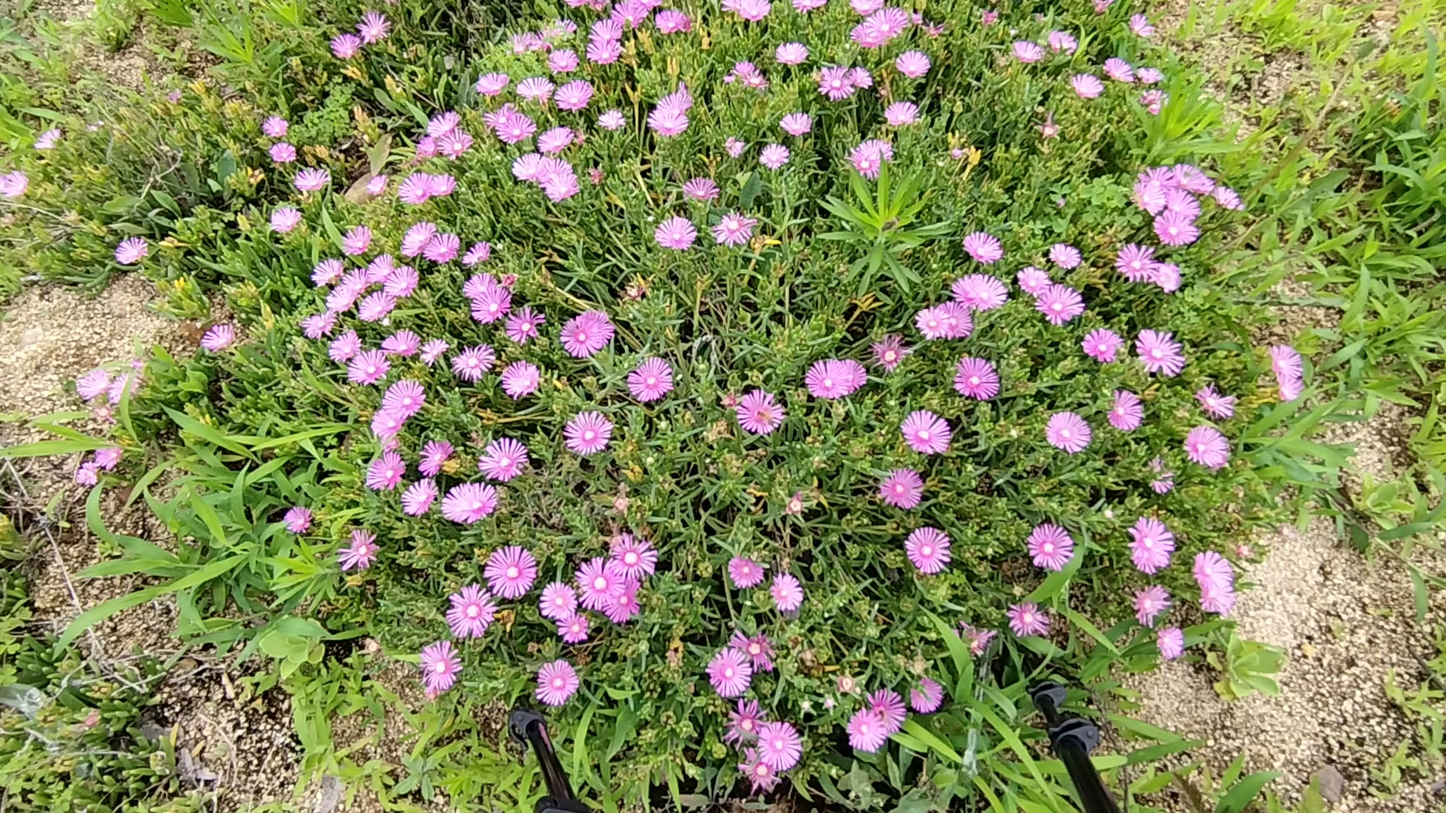bees: (877, 708, 889, 720)
